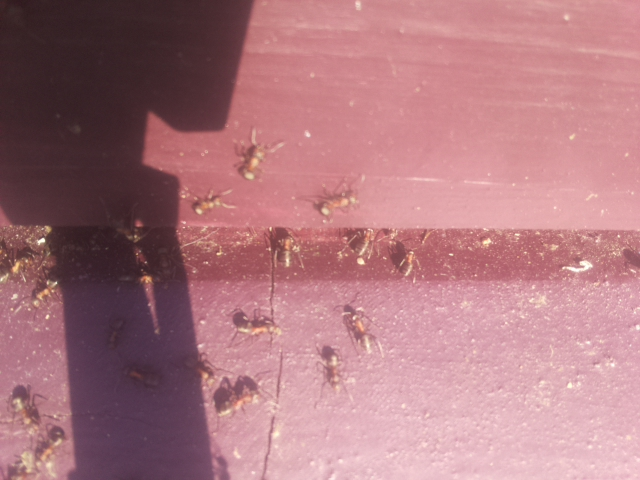ant: (2, 377, 47, 443), (338, 305, 380, 359), (183, 185, 242, 219), (309, 186, 365, 221), (227, 307, 286, 339), (235, 139, 272, 184), (268, 222, 300, 273), (315, 343, 346, 394), (182, 350, 221, 387), (28, 272, 62, 310), (218, 389, 261, 419), (38, 424, 66, 465), (394, 245, 420, 283), (354, 225, 377, 265), (101, 317, 126, 350), (0, 256, 25, 286)
